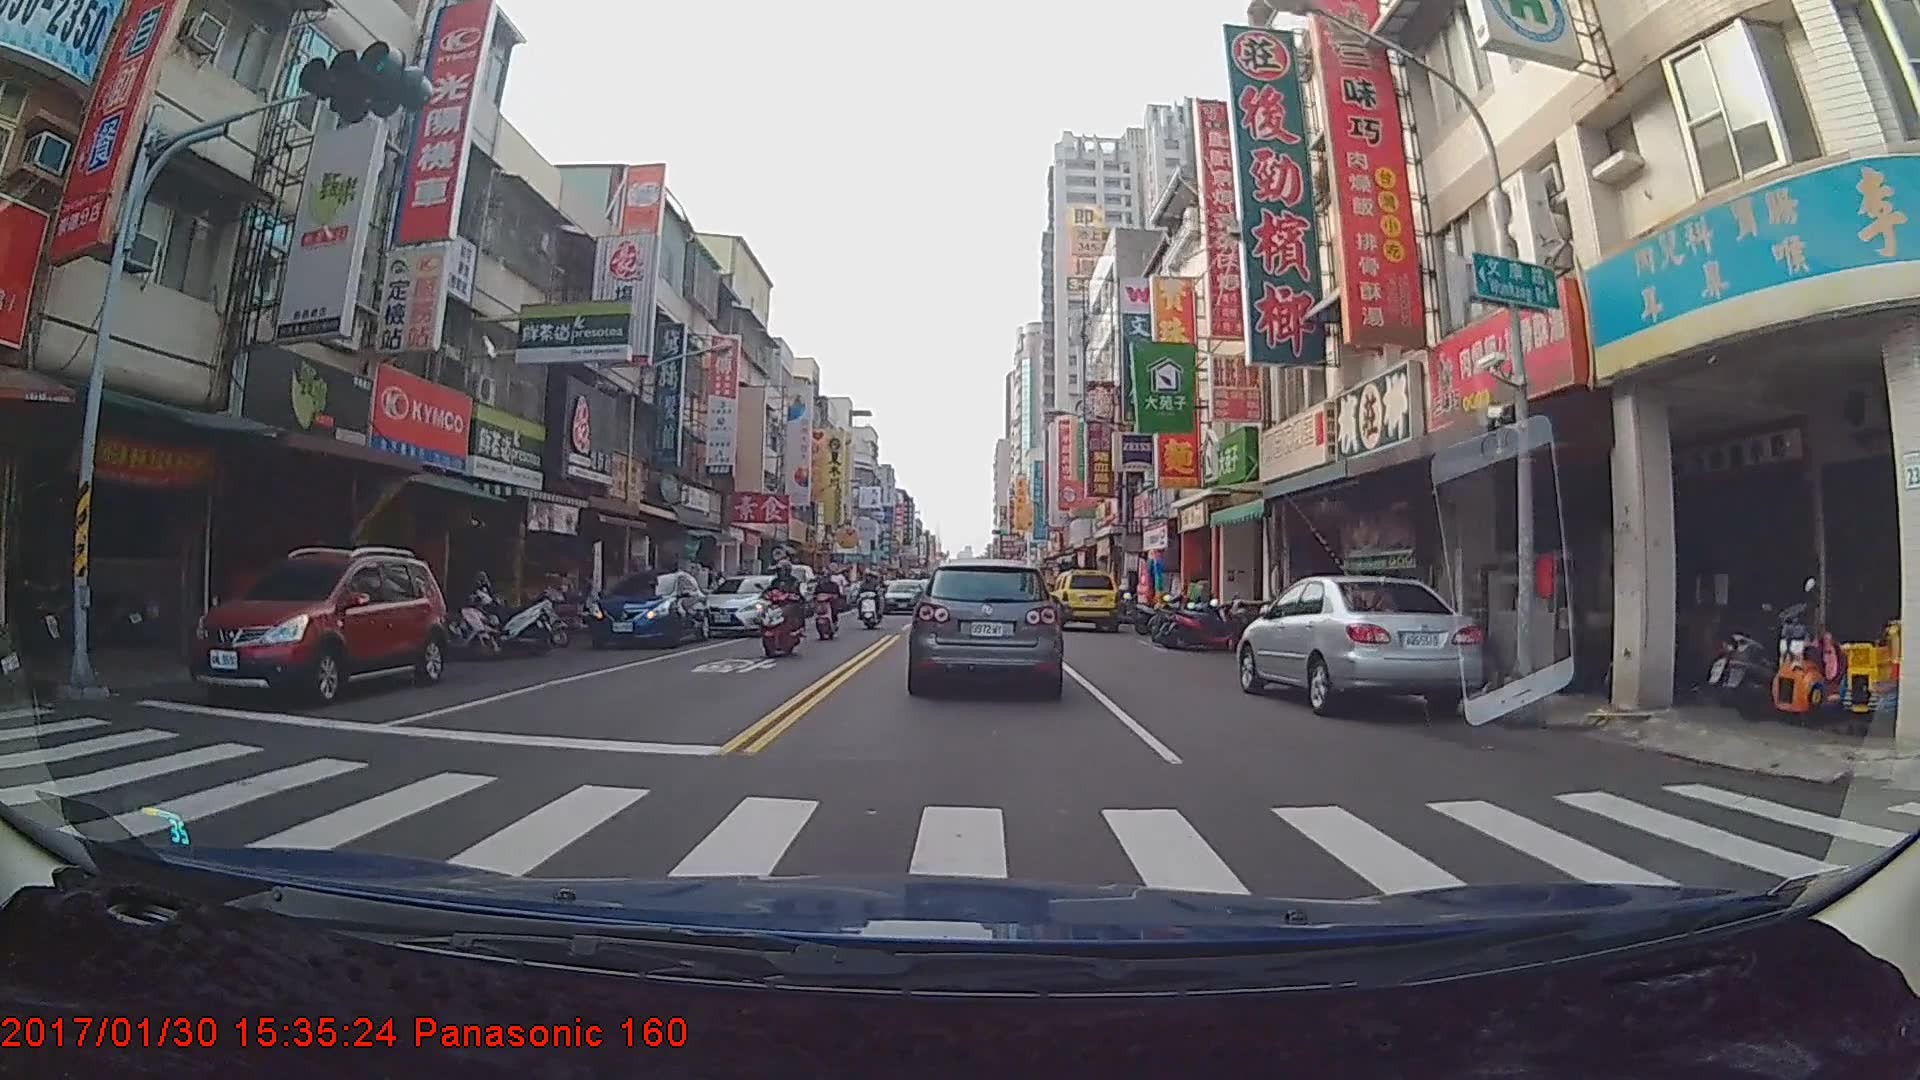rider: (757, 559, 808, 667), (810, 568, 843, 642), (858, 577, 885, 639)
vehicle: (182, 547, 446, 704), (1235, 573, 1483, 716), (908, 556, 1062, 695), (581, 572, 711, 651), (699, 576, 803, 637), (1050, 567, 1119, 628), (759, 563, 814, 617), (880, 577, 926, 613)
